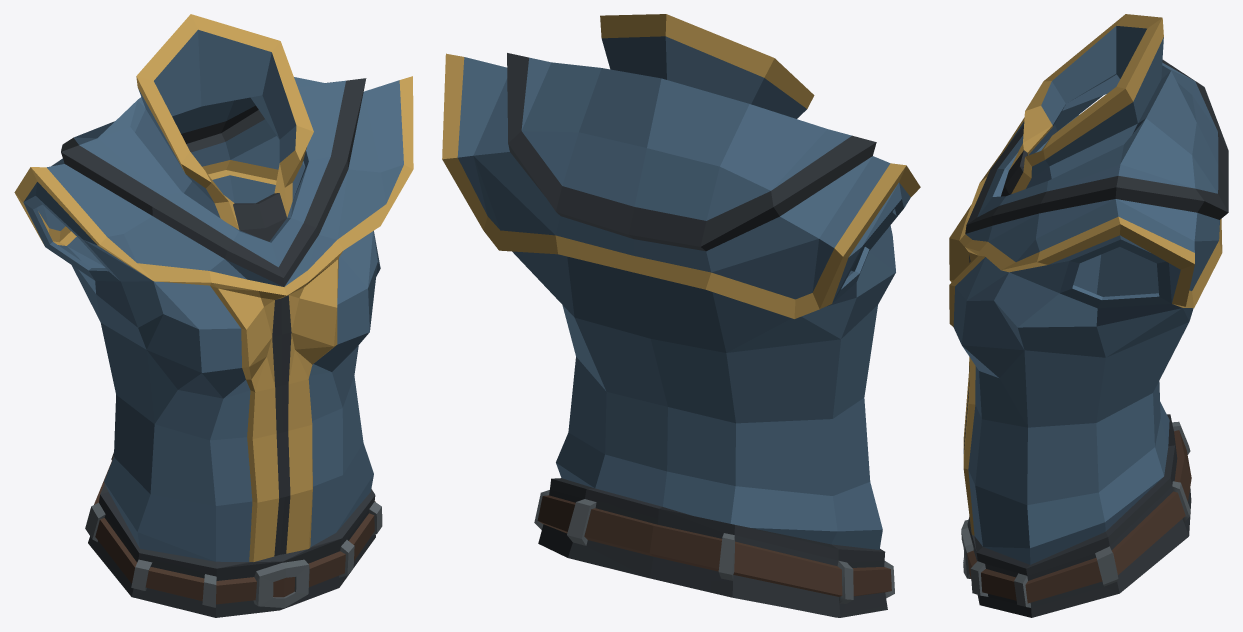
File: Chr_Torso_Female_09_Drop.fbx
3 views of the same model, side by side, from view 1: azimuth 30°, elevation 25°; view 2: azimuth 150°, elevation 25°; view 3: azimuth 270°, elevation 25° (orthographic). The views are drawn at different scales.
Parts seen in each view (by area): view 1: Chr_Torso_Female_09_Static; view 2: Chr_Torso_Female_09_Static; view 3: Chr_Torso_Female_09_Static.
Boxes of the visible parts, left/top/right/bottom form: Chr_Torso_Female_09_Static: left=14, top=14, right=413, bottom=617; Chr_Torso_Female_09_Static: left=442, top=14, right=920, bottom=617; Chr_Torso_Female_09_Static: left=949, top=14, right=1228, bottom=617.
Size of the model in its own units: 56.42 by 75.04 by 33.87.
